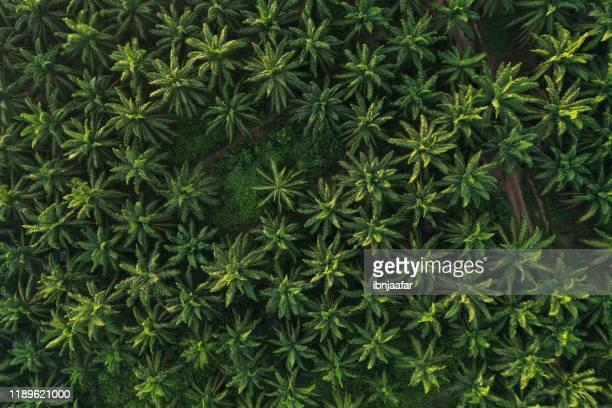coconut_tree: (290, 10, 339, 78), (253, 156, 305, 215), (533, 140, 585, 199), (390, 57, 442, 116), (380, 8, 432, 67), (470, 54, 522, 113), (445, 144, 497, 203), (345, 310, 397, 369), (120, 301, 172, 360), (295, 290, 347, 349), (260, 266, 312, 325), (298, 234, 350, 293), (18, 38, 70, 97), (52, 11, 104, 70), (23, 200, 75, 259), (165, 160, 217, 219), (206, 76, 258, 135), (339, 38, 391, 97), (288, 80, 340, 139), (241, 28, 293, 87), (11, 90, 63, 149), (111, 133, 163, 192), (57, 285, 109, 344), (116, 248, 168, 307), (201, 239, 253, 298), (340, 140, 392, 199), (398, 109, 450, 168), (150, 52, 202, 111), (116, 196, 168, 255), (493, 207, 545, 266), (442, 265, 494, 324), (553, 348, 605, 407), (396, 335, 448, 394), (539, 72, 591, 131), (62, 162, 114, 221), (73, 224, 125, 283), (399, 170, 451, 229), (482, 120, 534, 179), (533, 19, 585, 78), (346, 201, 398, 260), (453, 201, 505, 260), (0, 280, 50, 339)
